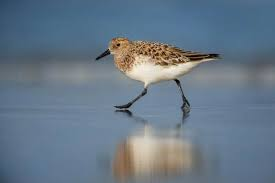Walking: (73, 25, 236, 124)
